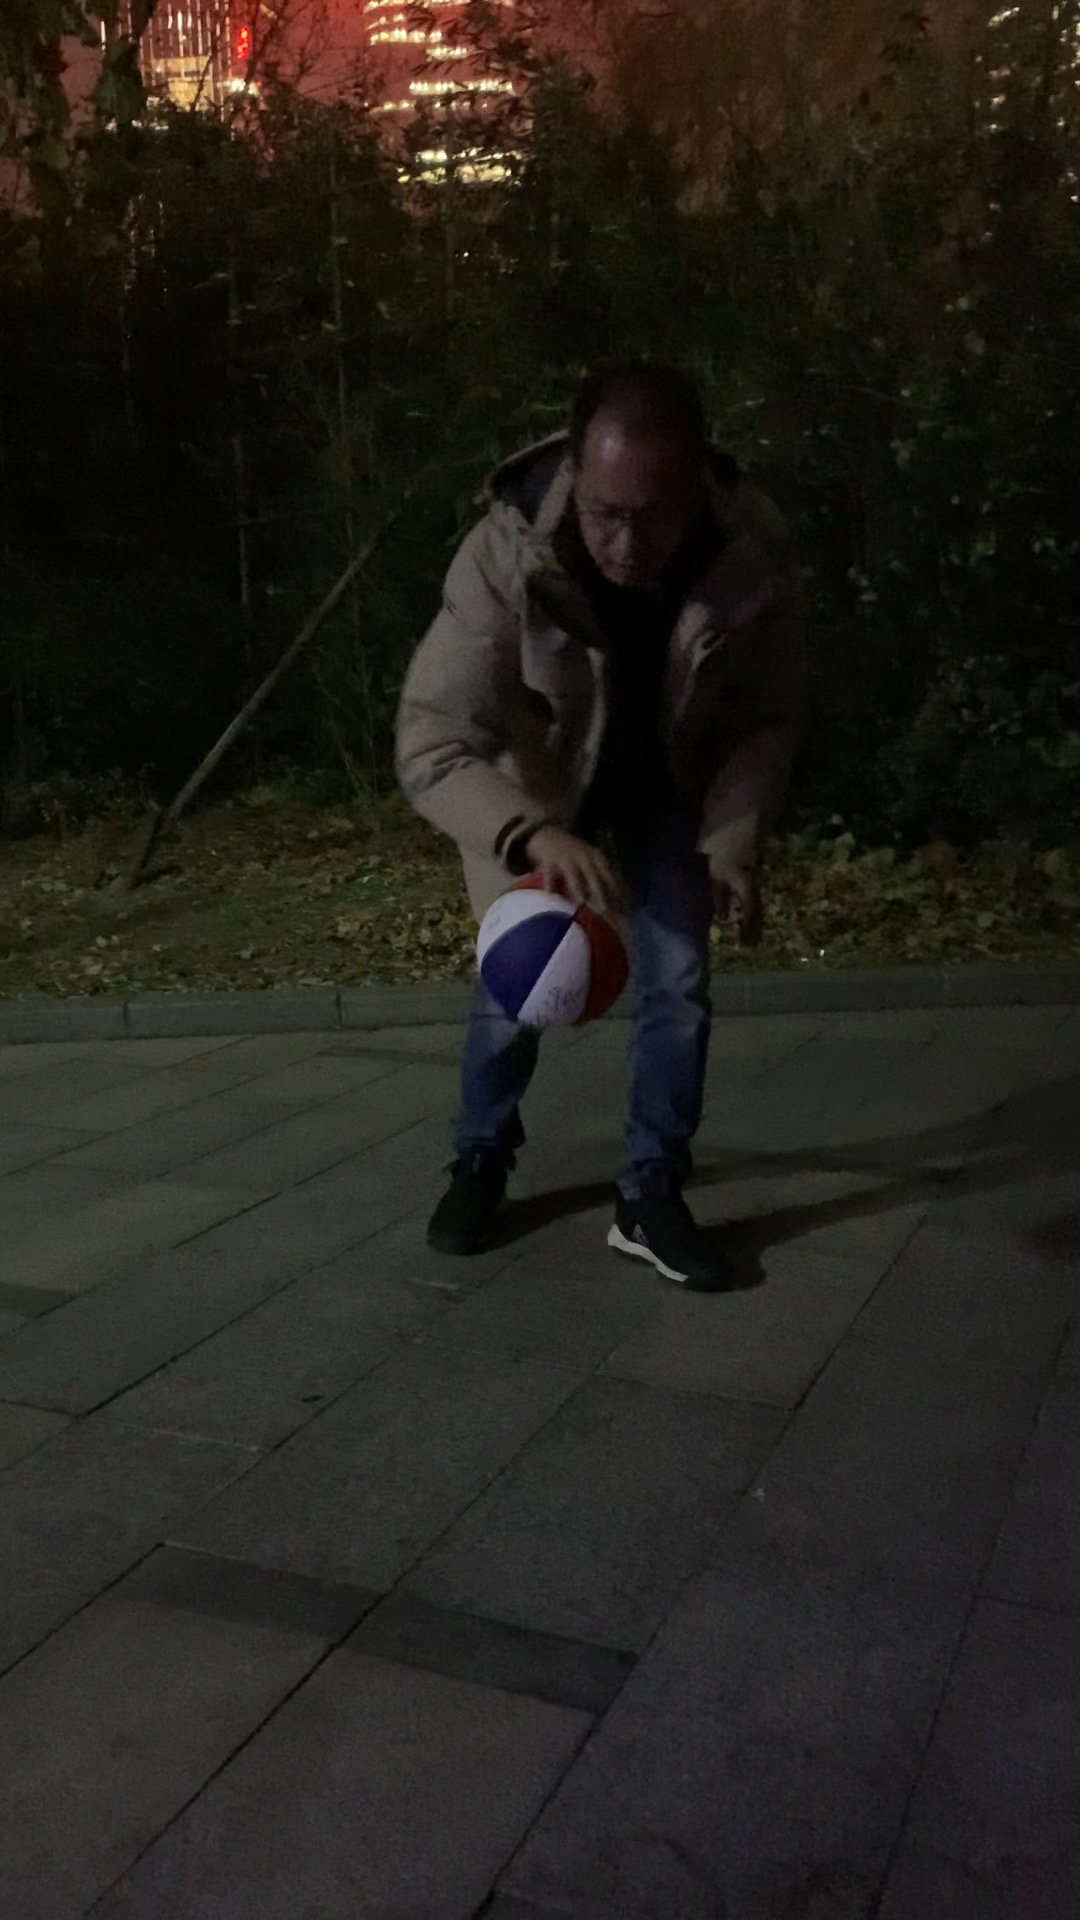ball: (473, 868, 634, 1029)
